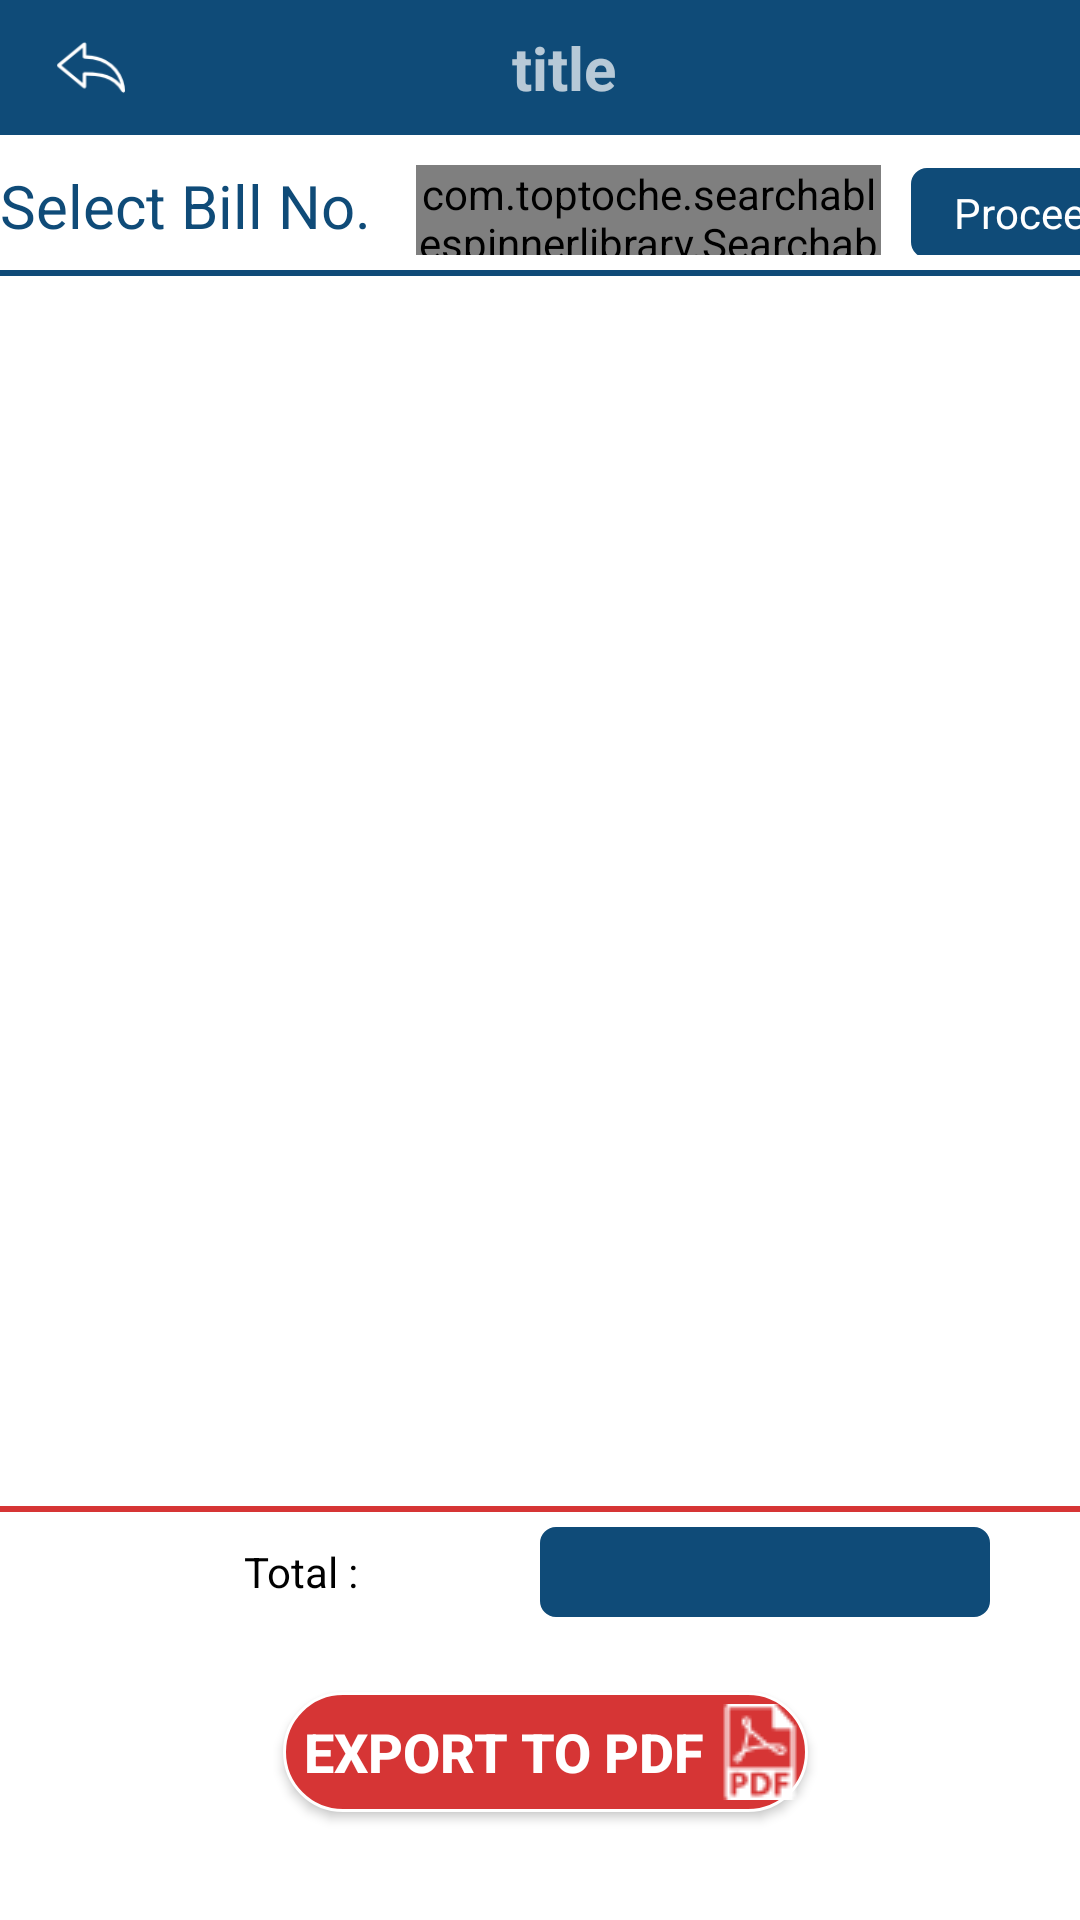

Screen size 1080 × 1920. Icon name, then its center in pixels as (x,y):
back arrow: (91,67)
